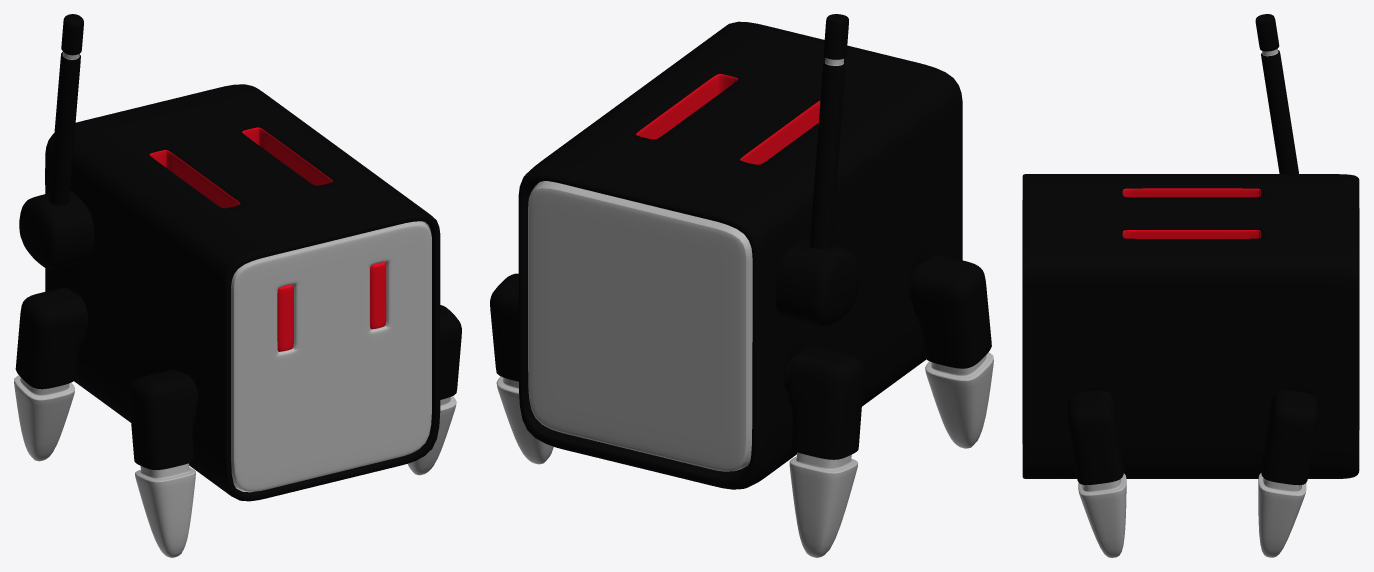
File: Boss2.fbx
3 views of the same model, side by side, from view 1: azimuth 30°, elevation 25°; view 2: azimuth 150°, elevation 25°; view 3: azimuth 270°, elevation 25° (orthographic). The views are drawn at different scales.
Parts seen in each view (by area): view 1: Cube, Cube.005, Cube.001, Cube.002, Cube.003; view 2: Cube, Cube.001, Cube.005, Cube.002, Cube.004; view 3: Cube, Cube.004, Cube.003, Cube.002.
Part boxes in pixels (<box>): Cube: <box>45,84,440,501</box>; Cube.005: <box>129,369,197,557</box>; Cube.001: <box>14,287,88,461</box>; Cube.002: <box>19,14,94,269</box>; Cube.003: <box>408,305,461,475</box>; Cube: <box>518,21,962,489</box>; Cube.001: <box>784,347,863,557</box>; Cube.005: <box>910,254,993,448</box>; Cube.002: <box>775,14,859,325</box>; Cube.004: <box>490,273,553,464</box>; Cube: <box>1022,174,1359,478</box>; Cube.004: <box>1258,390,1318,557</box>; Cube.003: <box>1067,390,1126,557</box>; Cube.002: <box>1255,14,1298,173</box>.
Bounding box in the file's own units: 147 × 203 × 147.
